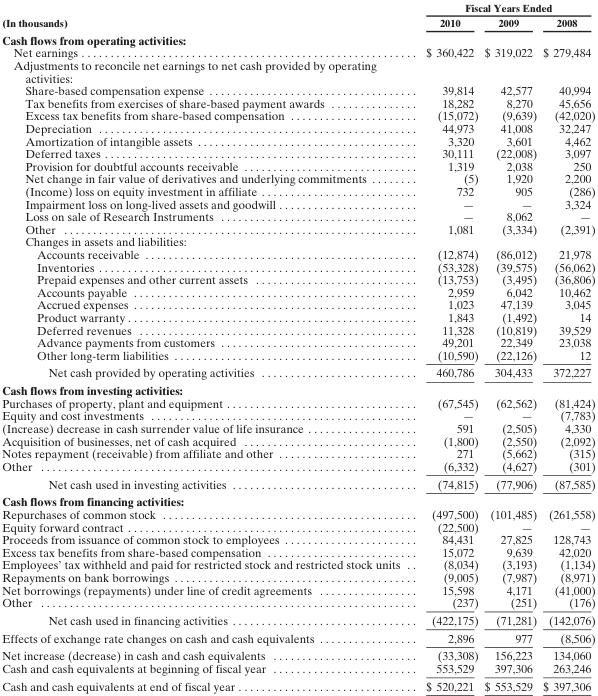table: (1, 0, 594, 692)
table column: (1, 0, 412, 692), (412, 0, 480, 692), (480, 0, 539, 692), (539, 0, 594, 692)
table column header: (1, 0, 594, 30)
table projected row header: (1, 58, 594, 83), (1, 30, 594, 46), (1, 381, 594, 396), (1, 492, 594, 507), (1, 234, 594, 247)
table row: (1, 58, 594, 83), (1, 363, 594, 381), (1, 474, 594, 492), (1, 610, 594, 628), (1, 628, 594, 646), (1, 14, 594, 30), (1, 30, 594, 46), (1, 676, 594, 692), (1, 348, 594, 363), (1, 381, 594, 396), (1, 459, 594, 474), (1, 492, 594, 507), (1, 595, 594, 610), (1, 646, 594, 661), (1, 661, 594, 676), (1, 0, 594, 14), (1, 83, 594, 96), (1, 96, 594, 109), (1, 121, 594, 134), (1, 146, 594, 159), (1, 159, 594, 172), (1, 184, 594, 197), (1, 209, 594, 222), (1, 234, 594, 247), (1, 247, 594, 260), (1, 272, 594, 285), (1, 297, 594, 310), (1, 310, 594, 323), (1, 335, 594, 348), (1, 396, 594, 409), (1, 421, 594, 434), (1, 446, 594, 459), (1, 507, 594, 520), (1, 532, 594, 545), (1, 545, 594, 558), (1, 570, 594, 583), (1, 46, 594, 58), (1, 109, 594, 121), (1, 134, 594, 146), (1, 172, 594, 184), (1, 197, 594, 209), (1, 222, 594, 234), (1, 260, 594, 272), (1, 285, 594, 297), (1, 323, 594, 335), (1, 409, 594, 421), (1, 434, 594, 446), (1, 520, 594, 532), (1, 558, 594, 570), (1, 583, 594, 595)
table spanning cell: (1, 0, 412, 30), (412, 0, 594, 14)
